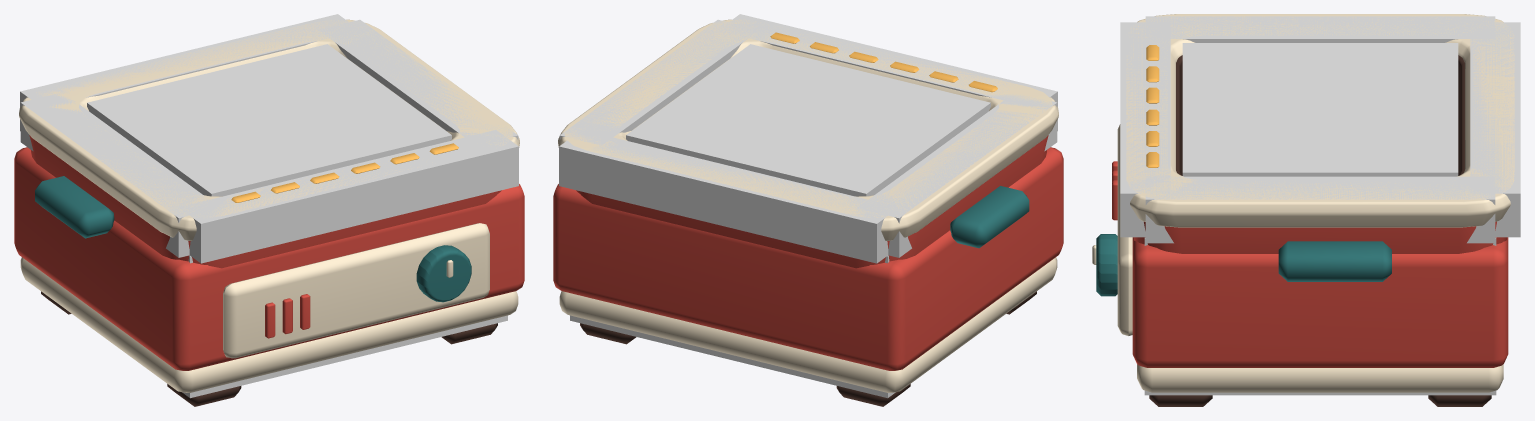
File: A03_AutomaticFryer.fbx
3 renders of one model, left to right at view 1: azimuth 30°, elevation 25°; view 2: azimuth 150°, elevation 25°; view 3: azimuth 270°, elevation 25°, orthographic. The views are drawn at different scales.
Parts seen in each view (by area): view 1: COL_TRIG_PotMouth, Fryer / tomato lower housing, COL_FryerRimEnd_L, Fryer / soft rolled rim, Fryer / front fascia, Fryer / vanilla plinth, COL_FryerRimSide_L, COL_FryerRimSide_R, COL_FryerRimEnd_R, Fryer / cavity side wall, Fryer / side grip, Fryer / petrol thermostat (+3 smaller); view 2: Fryer / tomato lower housing, COL_TRIG_PotMouth, Fryer / soft rolled rim, COL_FryerRimEnd_R, Fryer / vanilla plinth, COL_FryerRimSide_R, COL_FryerRimSide_L, COL_FryerRimEnd_L, Fryer / cavity side wall, Fryer / side grip, COL_FryerBase, Fryer / rubber foot.001 (+1 smaller); view 3: Fryer / tomato lower housing, COL_TRIG_PotMouth, Fryer / soft rolled rim, Fryer / vanilla plinth, COL_FryerRimSide_R, COL_FryerRimEnd_R, COL_FryerRimSide_L, COL_FryerRimEnd_L, Fryer / cavity side wall, Fryer / side grip.001, Fryer / front fascia, Fryer / interior oil lining (+4 smaller).
Boxes of the visible parts, box(x1,y1,x2,y2) form: COL_TRIG_PotMouth: box(87, 44, 451, 196); Fryer / tomato lower housing: box(14, 147, 524, 370); COL_FryerRimEnd_L: box(179, 130, 518, 263); Fryer / soft rolled rim: box(19, 19, 519, 240); Fryer / front fascia: box(223, 223, 489, 358); Fryer / vanilla plinth: box(20, 257, 518, 392); COL_FryerRimSide_L: box(20, 92, 209, 257); COL_FryerRimSide_R: box(318, 19, 518, 143); COL_FryerRimEnd_R: box(20, 14, 358, 131); Fryer / cavity side wall: box(29, 135, 501, 268); Fryer / side grip: box(35, 176, 114, 238); Fryer / petrol thermostat: box(416, 245, 471, 302); Fryer / tomato lower housing: box(553, 147, 1063, 370); COL_TRIG_PotMouth: box(626, 44, 990, 196); Fryer / soft rolled rim: box(558, 19, 1058, 240); COL_FryerRimEnd_R: box(559, 130, 897, 263); Fryer / vanilla plinth: box(559, 257, 1057, 392); COL_FryerRimSide_R: box(559, 19, 758, 145); COL_FryerRimSide_L: box(858, 100, 1057, 257); COL_FryerRimEnd_L: box(718, 14, 1057, 131); Fryer / cavity side wall: box(576, 135, 1048, 268); Fryer / side grip: box(950, 186, 1029, 248); COL_FryerBase: box(570, 255, 895, 398); Fryer / rubber foot.001: box(836, 384, 910, 406); Fryer / tomato lower housing: box(1132, 237, 1508, 367); COL_TRIG_PotMouth: box(1182, 43, 1458, 176); Fryer / soft rolled rim: box(1126, 14, 1514, 227); Fryer / vanilla plinth: box(1137, 364, 1503, 392); COL_FryerRimSide_R: box(1145, 176, 1495, 243); COL_FryerRimEnd_R: box(1470, 22, 1520, 237); COL_FryerRimSide_L: box(1145, 16, 1495, 42); COL_FryerRimEnd_L: box(1120, 22, 1170, 237); Fryer / cavity side wall: box(1133, 221, 1506, 253); Fryer / side grip.001: box(1278, 241, 1391, 281); Fryer / front fascia: box(1117, 124, 1132, 335); Fryer / interior oil lining: box(1176, 55, 1464, 175).
Bounding box in the file's own units: 0.283 × 0.132 × 0.23.
